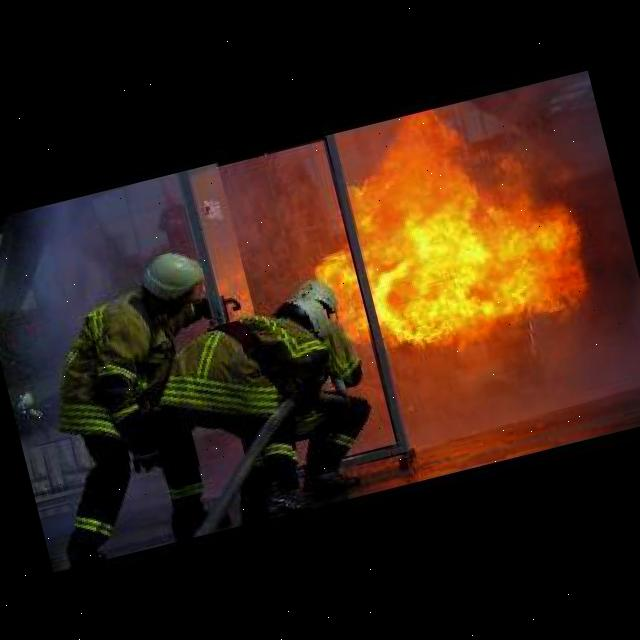fire: (276, 91, 605, 375)
